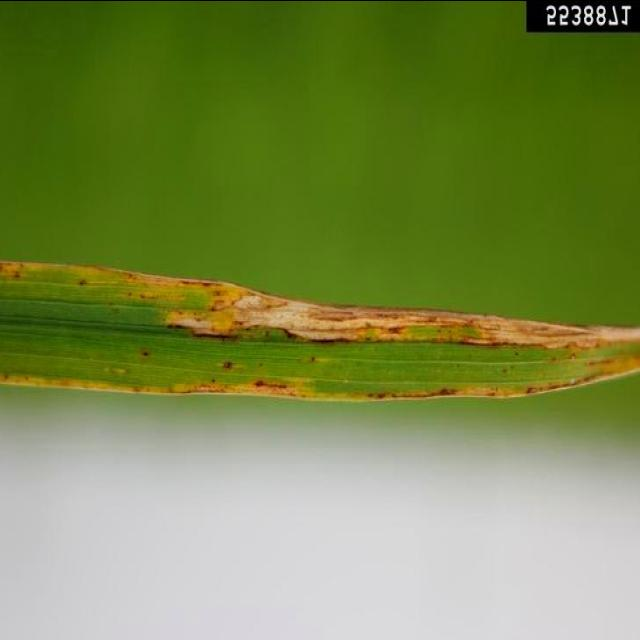Bacterial_Leaf_Blight: (35, 241, 640, 412)
